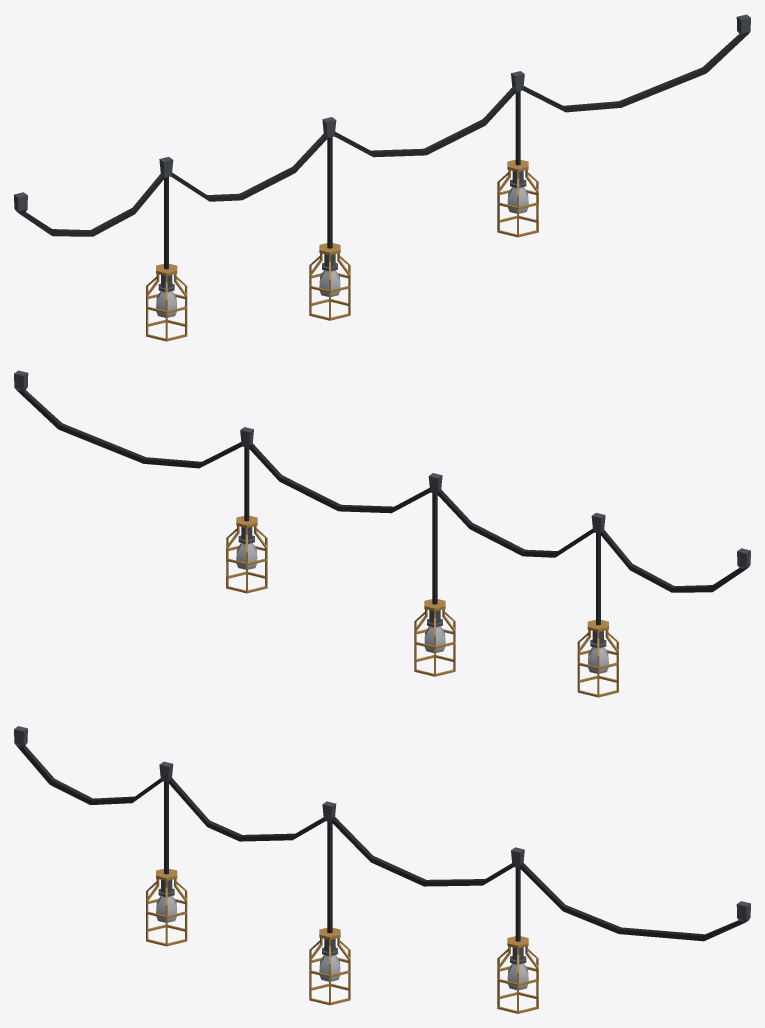
The model's file is SM_Prop_Wire_Lights_01.fbx.
3 views of the same model, one above another, from view 1: azimuth 30°, elevation 25°; view 2: azimuth 150°, elevation 25°; view 3: azimuth 330°, elevation 25° (orthographic).
Parts seen in each view (by area): view 1: SM_Prop_Wire_Lights_01; view 2: SM_Prop_Wire_Lights_01; view 3: SM_Prop_Wire_Lights_01.
Part boxes in pixels (bbox=[...]): SM_Prop_Wire_Lights_01: bbox=[14, 14, 750, 341]; SM_Prop_Wire_Lights_01: bbox=[14, 370, 750, 697]; SM_Prop_Wire_Lights_01: bbox=[14, 726, 750, 1013].
Size of the model in its own units: 374 by 93.77 by 18.31.
